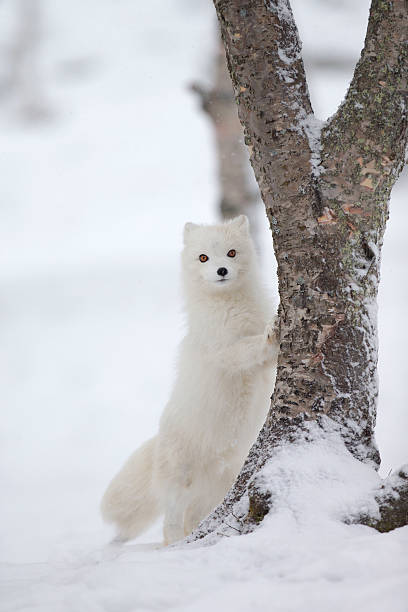arcticfox: (189, 230, 247, 294)
